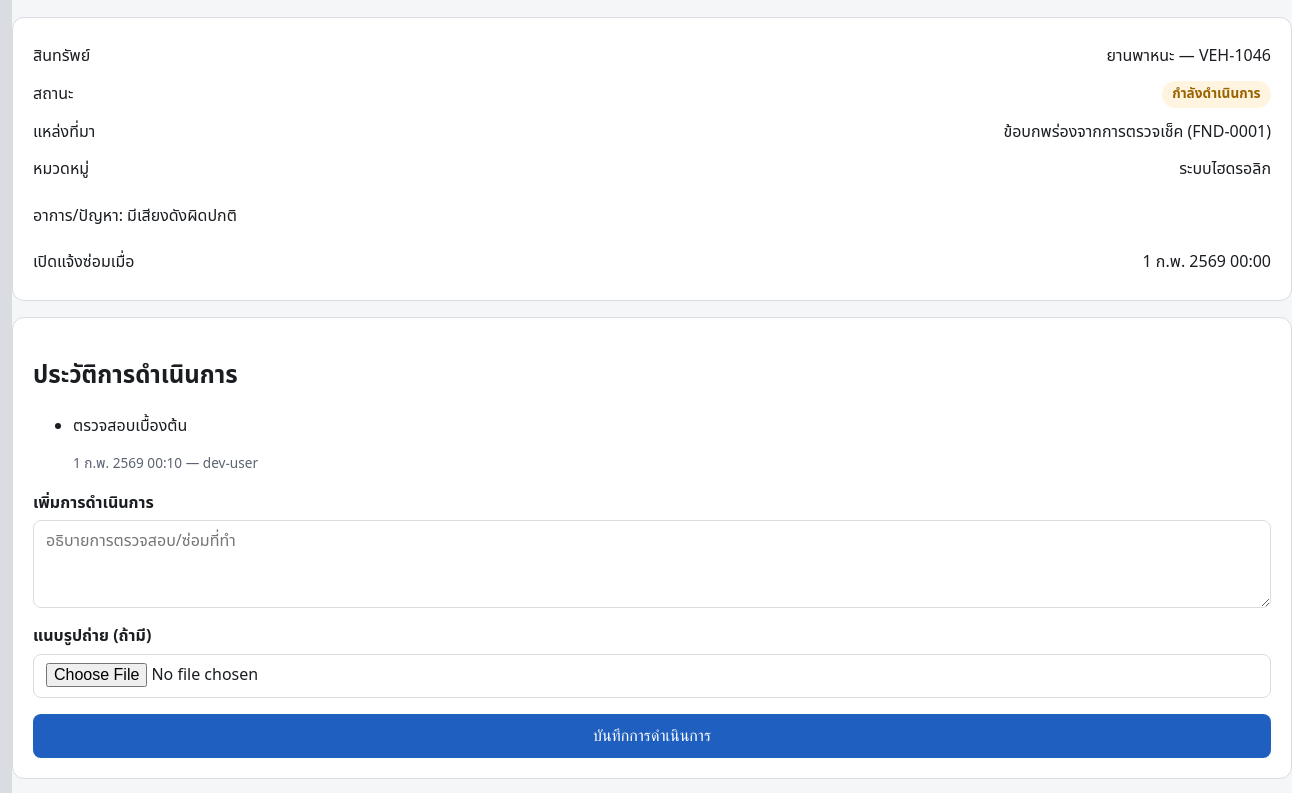
RepairDetailPage › appends a new action without removing the previous one, and adds an actual part
Expected: the text "ตรวจสอบเบื้องต้น" is shown, [73,414,187,438]
Type "เปลี่ยนอะไหล่และทดสอบ" into the text box labelled "เพิ่มการดำเนินการ" at (652, 564), box [33,520,1271,608]
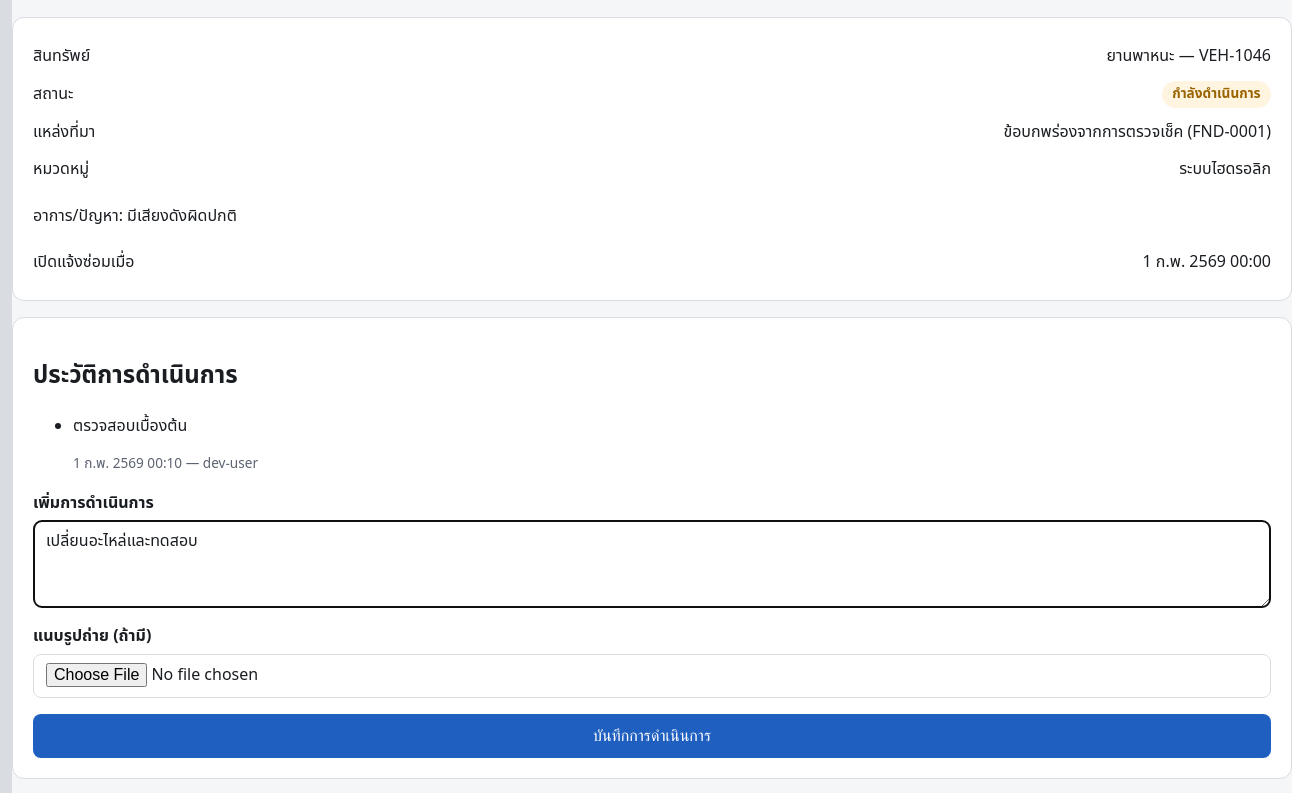
Click the button "บันทึกการดำเนินการ" at (652, 736), box [33,714,1271,758]
(page scrolled)
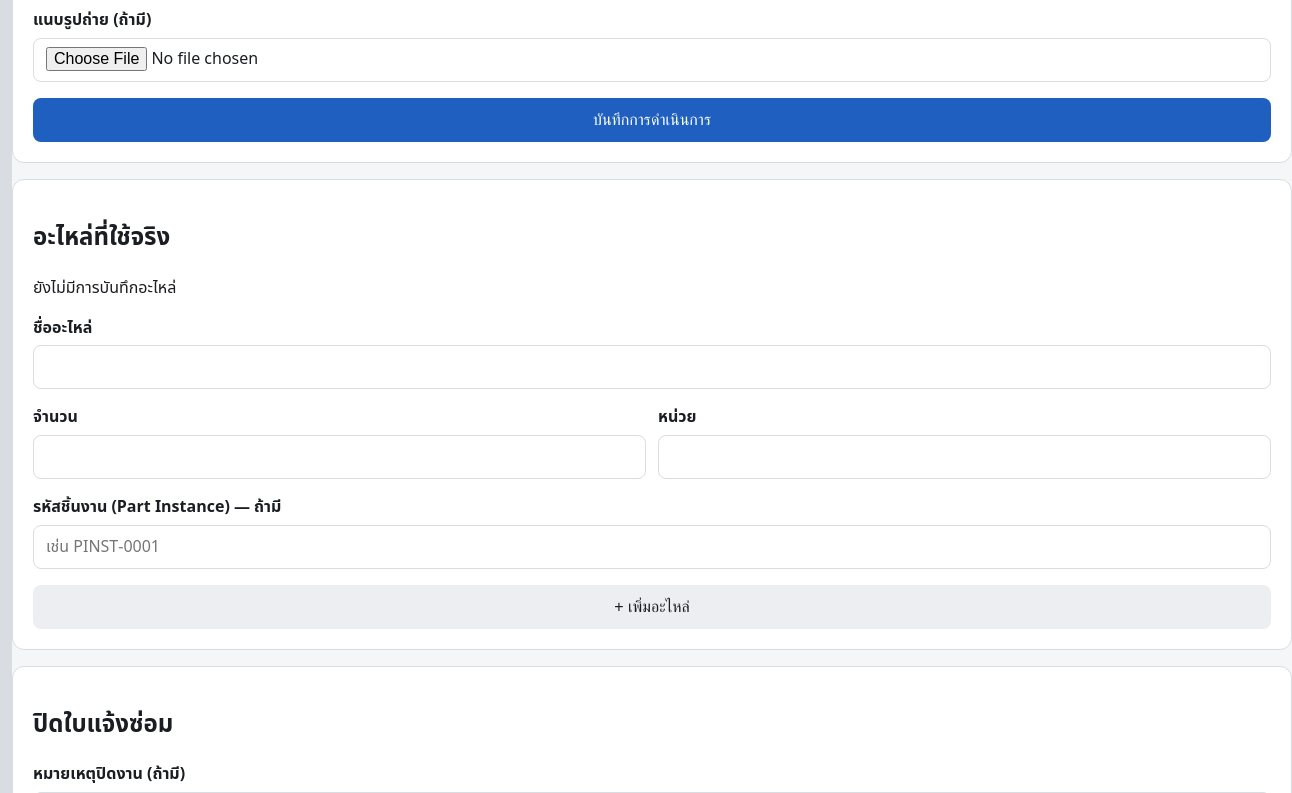
Type "สายไฮดรอลิก" into the field labelled "ชื่ออะไหล่" at (652, 368), box [33,346,1271,390]
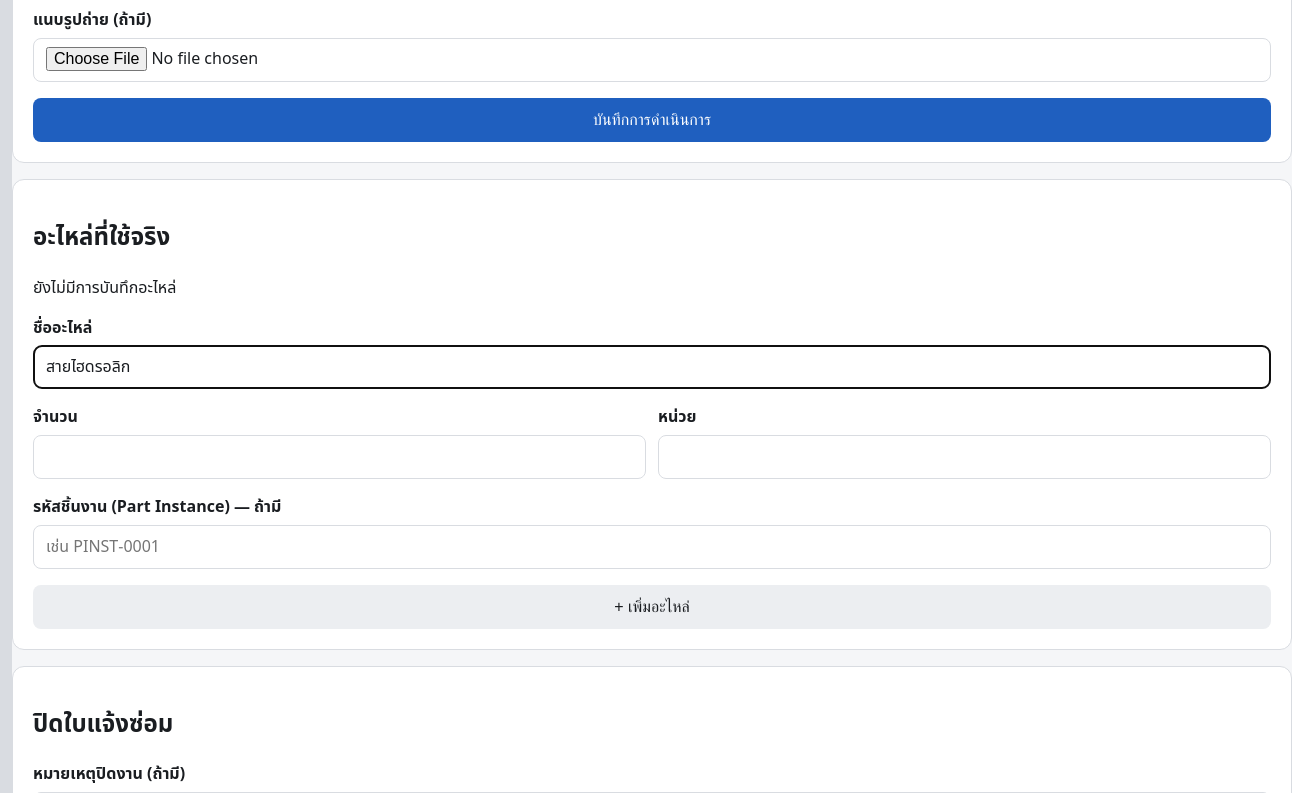
Click the button "+ เพิ่มอะไหล่" at (652, 607), box [33,585,1271,629]
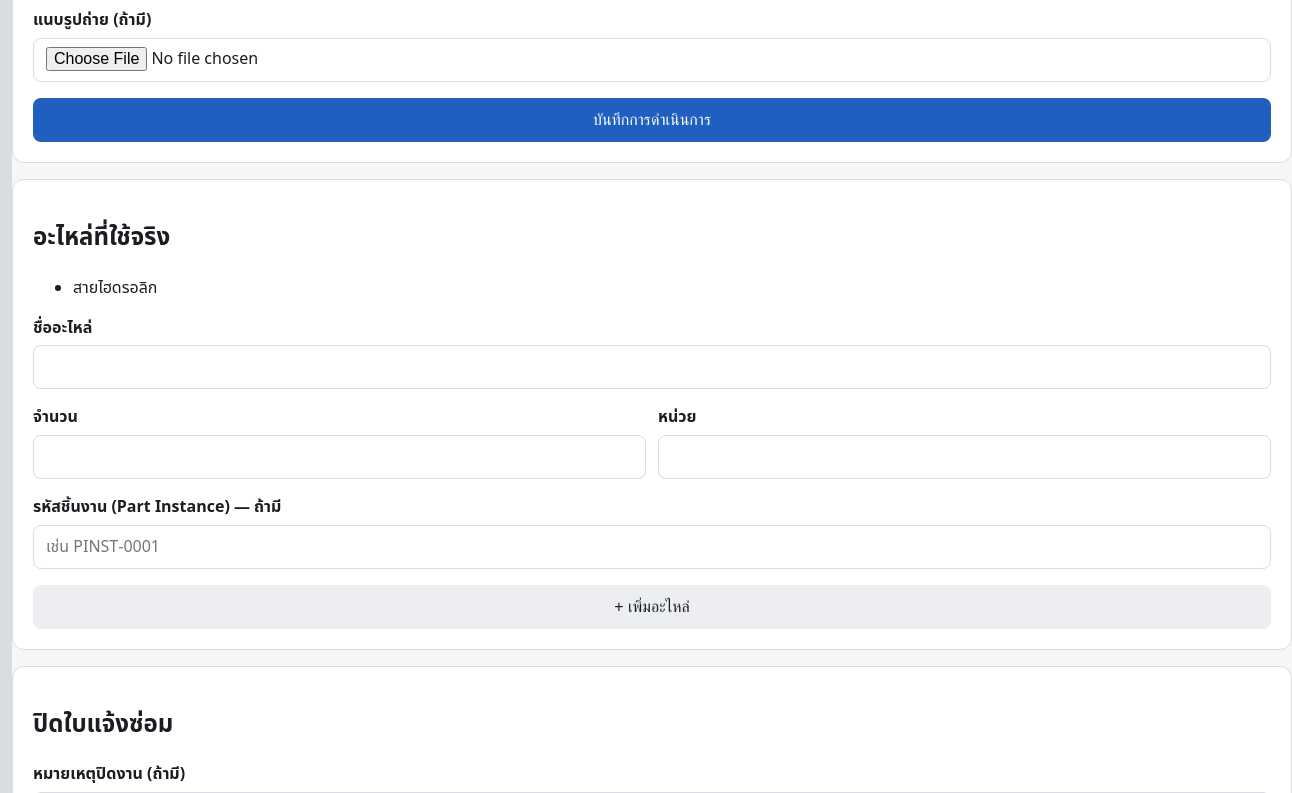
Expected: the list item "สายไฮดรอลิก" is shown, [73,276,157,300]
